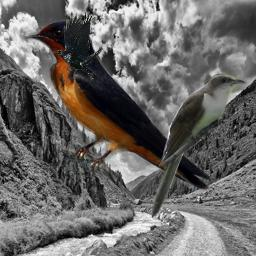Crow: (53, 9, 103, 81)
Cuckoo: (147, 72, 247, 221)
Swallow: (23, 20, 212, 194)
